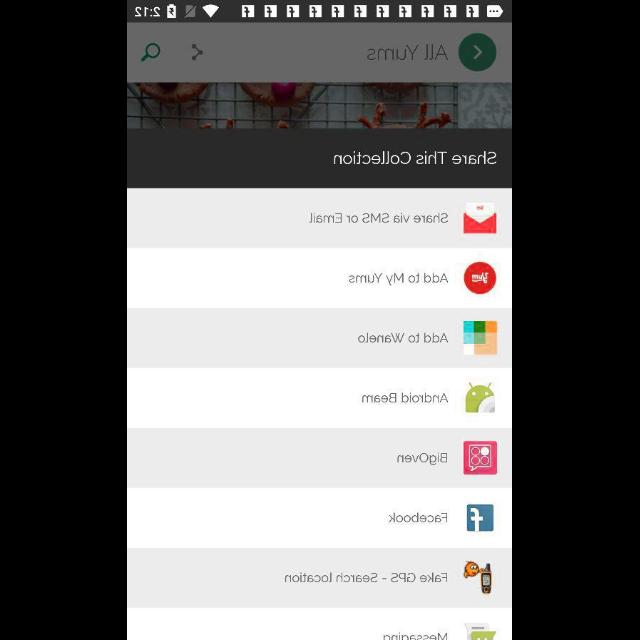icon: (459, 34, 497, 72), (468, 504, 494, 532), (142, 44, 160, 62), (192, 44, 204, 61)
image: (464, 441, 498, 475), (464, 321, 498, 355), (464, 262, 498, 294), (463, 203, 497, 235), (463, 561, 492, 595), (466, 382, 494, 414), (464, 622, 498, 640)
panel: (128, 130, 512, 640)
text: (334, 151, 498, 165), (284, 572, 448, 584), (310, 212, 448, 224), (367, 44, 449, 61), (349, 272, 448, 286), (357, 332, 449, 344), (362, 392, 448, 404), (397, 452, 448, 466), (388, 512, 448, 522), (384, 632, 448, 640)
uppertaskbar: (128, 1, 512, 23)
